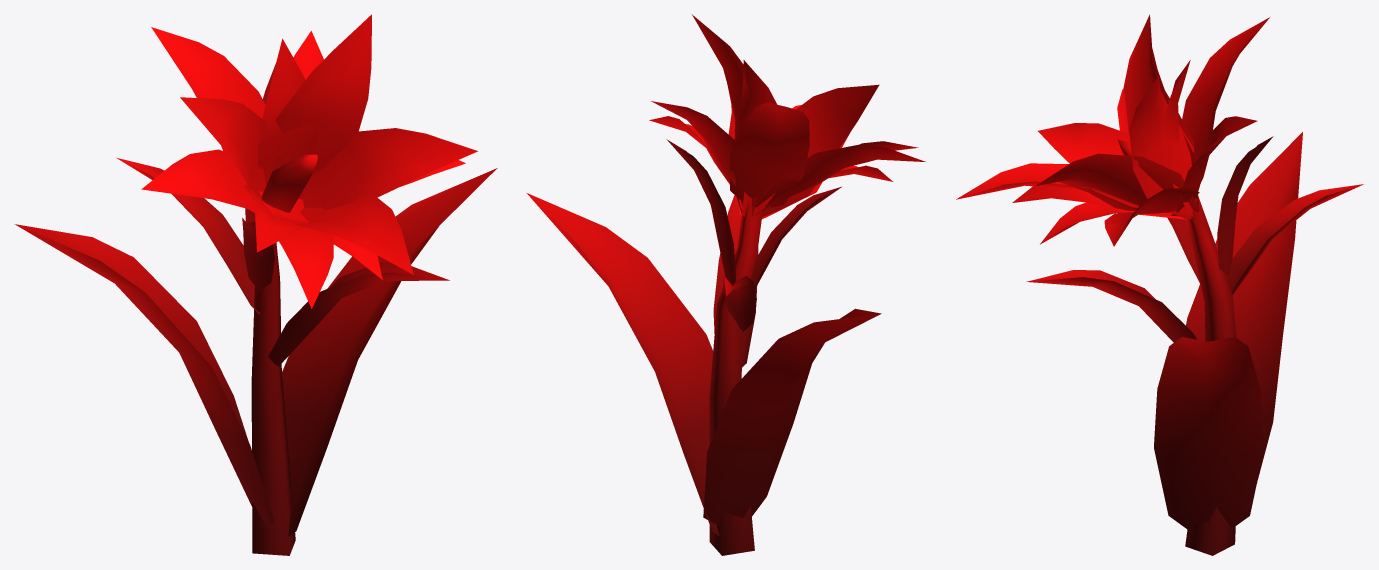
File: flower_a1.fbx
3 renders of one model, left to right at view 1: azimuth 30°, elevation 25°; view 2: azimuth 150°, elevation 25°; view 3: azimuth 270°, elevation 25°, orthographic. The views are drawn at different scales.
Visible parts, largest first — view 1: geo_flower_a1; view 2: geo_flower_a1; view 3: geo_flower_a1.
Part boxes in pixels (bbox=[...]): geo_flower_a1: bbox=[14, 14, 497, 555]; geo_flower_a1: bbox=[527, 14, 925, 555]; geo_flower_a1: bbox=[956, 14, 1363, 555].
Size of the model in its own units: 0.4864 by 0.5744 by 0.4238.
